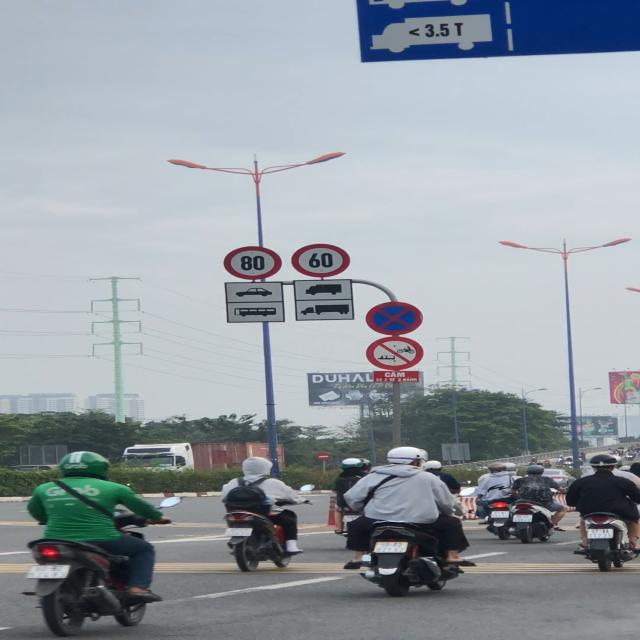Bien bao cam dung xe va do xe: (365, 300, 426, 336)
Bien bao toc do toi da cho phep: (220, 246, 284, 282), (291, 243, 351, 278)
